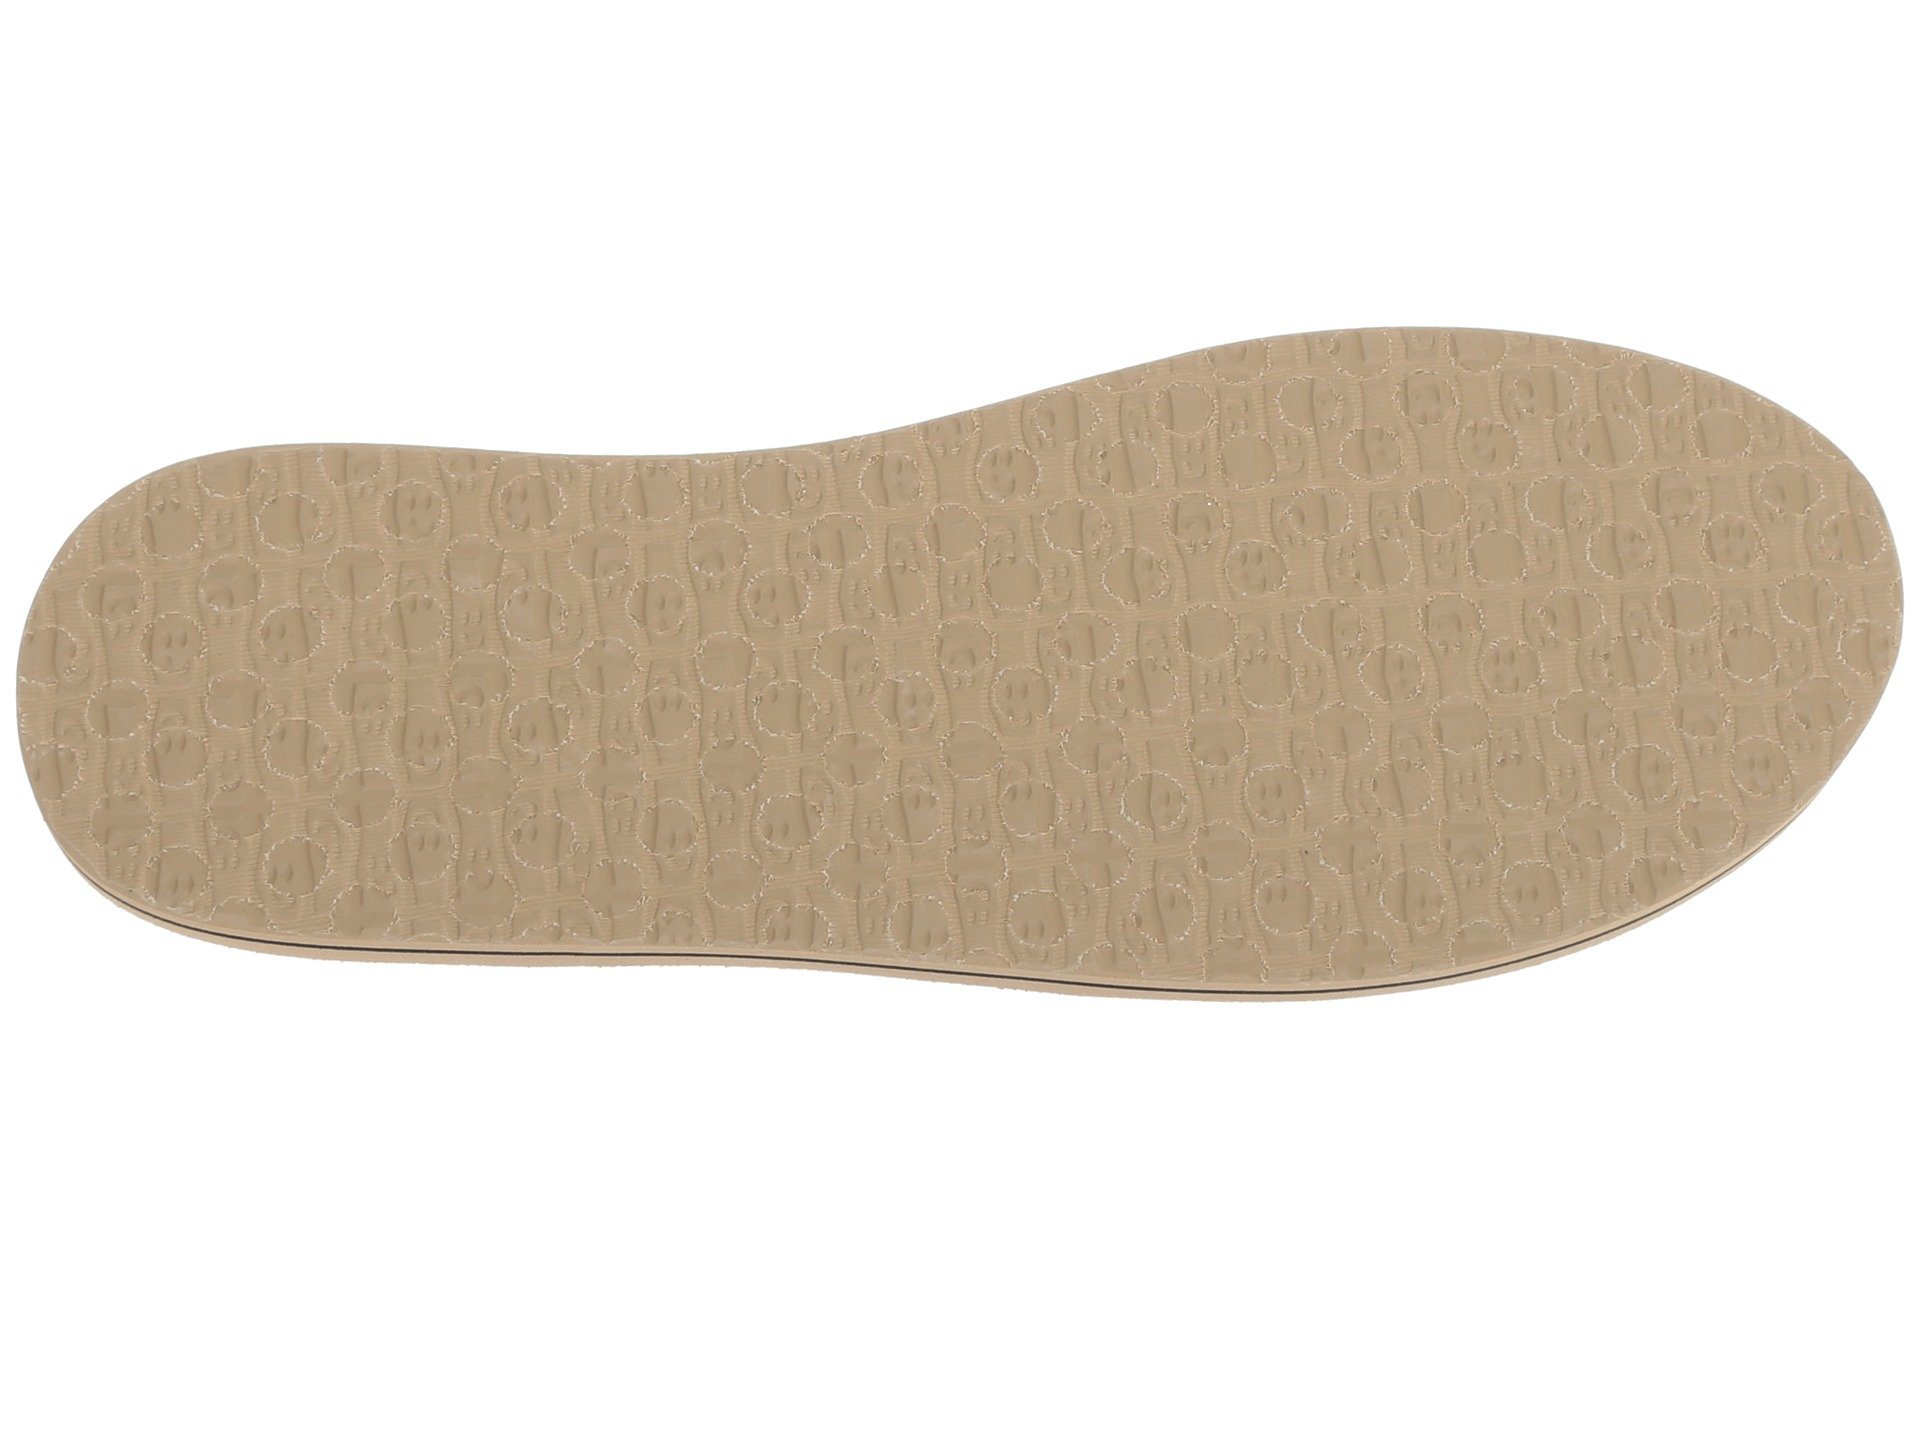circle: (794, 458, 1353, 923), (145, 479, 729, 917), (1414, 433, 1755, 853)
quad: (794, 458, 1353, 923), (145, 479, 729, 917), (1414, 433, 1755, 853)
